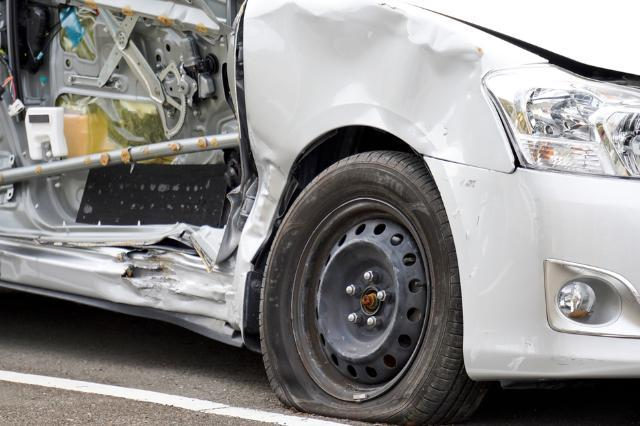Door: (0, 0, 251, 277)
Fender: (242, 0, 510, 176)
